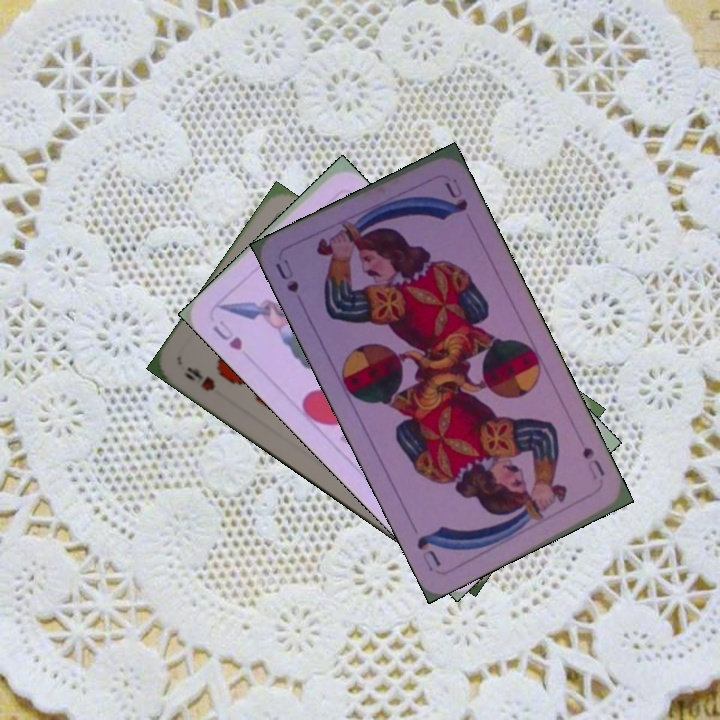H9: (181, 362, 218, 394)
HU: (208, 316, 245, 353)
SU: (271, 254, 302, 295), (578, 443, 608, 479)
